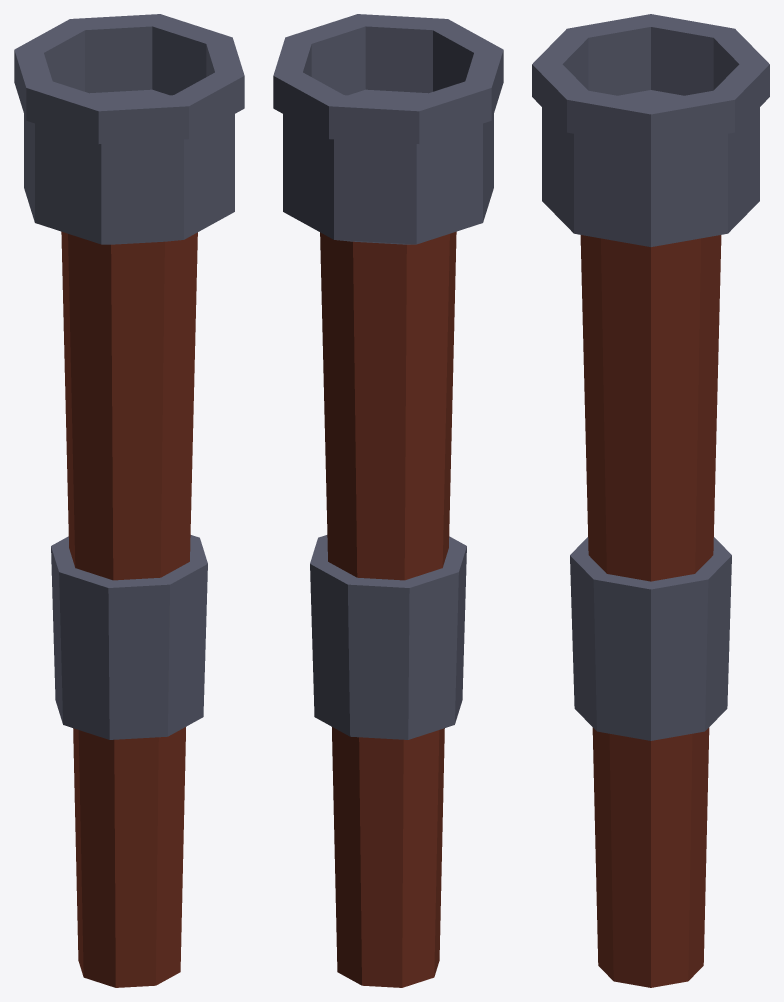
The model's file is Torch.fbx.
3 renders of one model, left to right at view 1: azimuth 30°, elevation 25°; view 2: azimuth 150°, elevation 25°; view 3: azimuth 270°, elevation 25°, orthographic.
Parts seen in each view (by area): view 1: Plane; view 2: Plane; view 3: Plane.
Part boxes in pixels (x1,y1,x2,y2): Plane: [14, 14, 244, 987]; Plane: [273, 14, 503, 987]; Plane: [532, 14, 769, 987].
Bounding box in the file's own units: 33.03 × 138 × 33.03.
